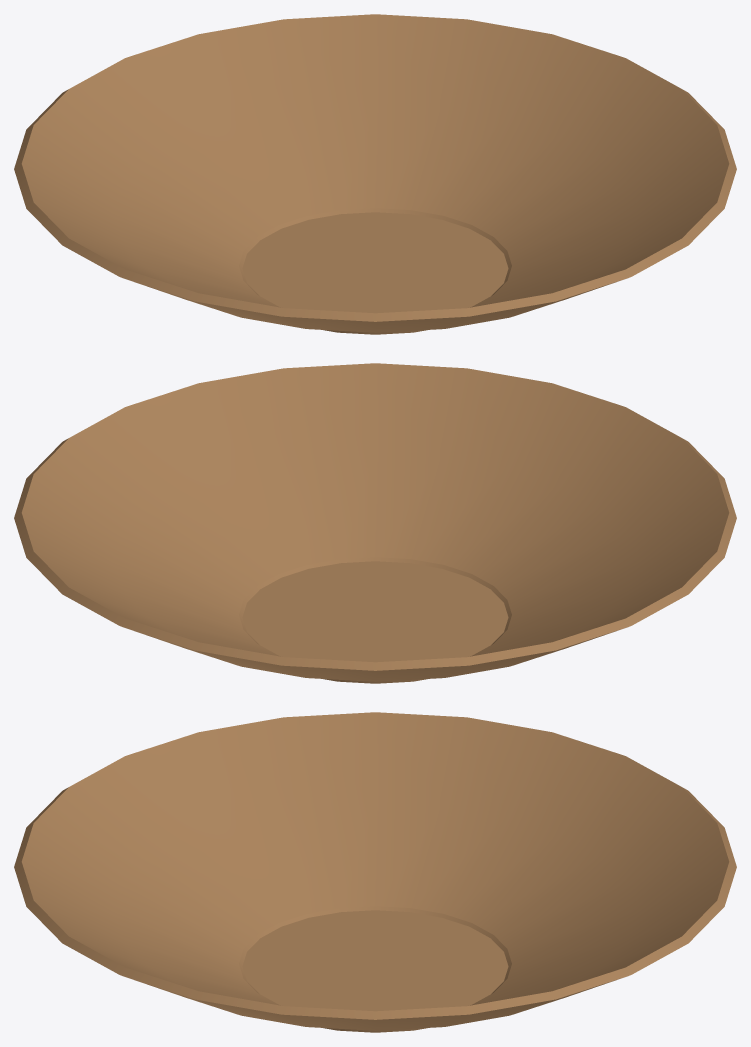
File: plate.FBX
3 renders of one model, top to bottom at view 1: azimuth 30°, elevation 25°; view 2: azimuth 150°, elevation 25°; view 3: azimuth 270°, elevation 25°, orthographic.
Parts seen in each view (by area): view 1: plate; view 2: plate; view 3: plate.
Part boxes in pixels (<box>): plate: <box>14,14,736,334</box>; plate: <box>14,363,736,683</box>; plate: <box>14,712,736,1032</box>.
Size of the model in its own units: 0.2423 by 0.0403 by 0.2423.
